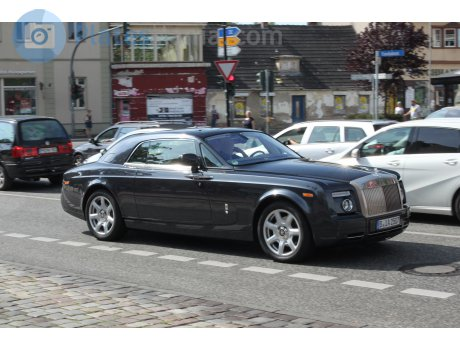License Plates: (381, 218, 406, 228)
